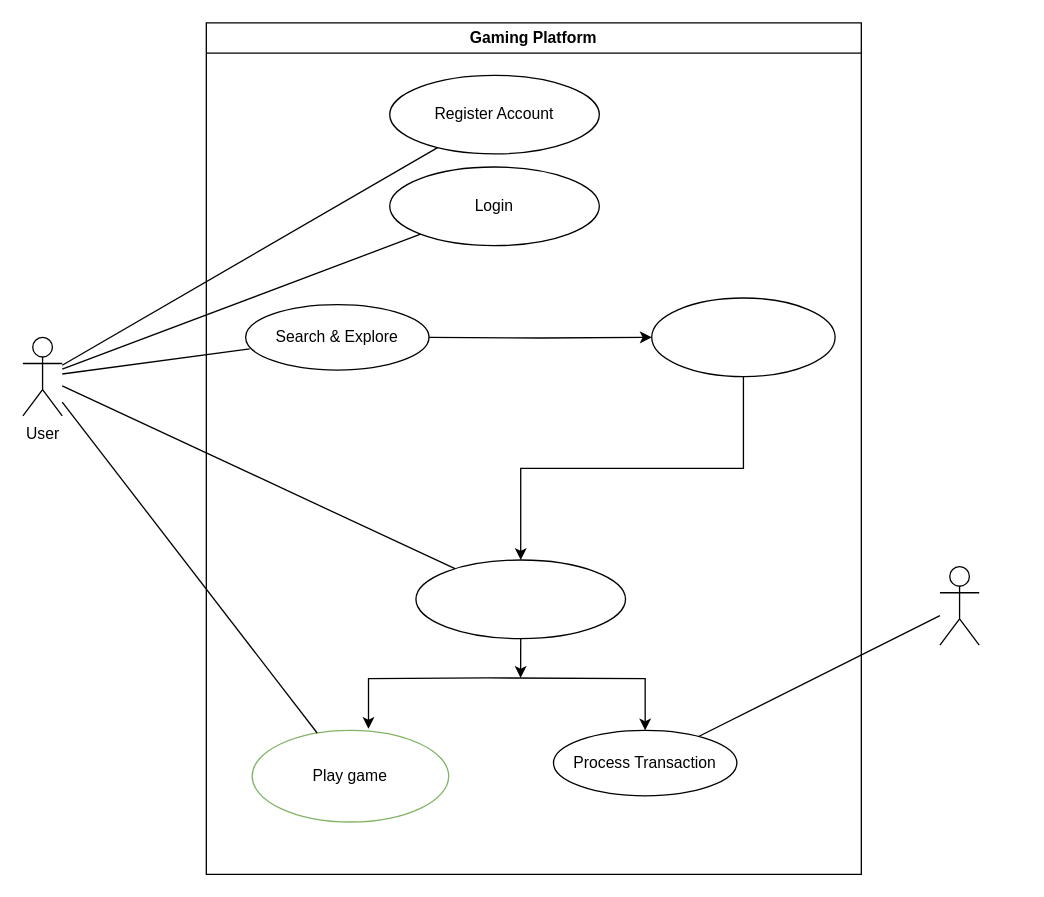
Image size: 1044x897. Some labels were removed from this diagram. Here are the shapes that lost their labels. From the top down, the centre of each, then its label:
point 742,337: View Game Details
point 520,599: Purchase Game
point 959,605: Payment Provider
